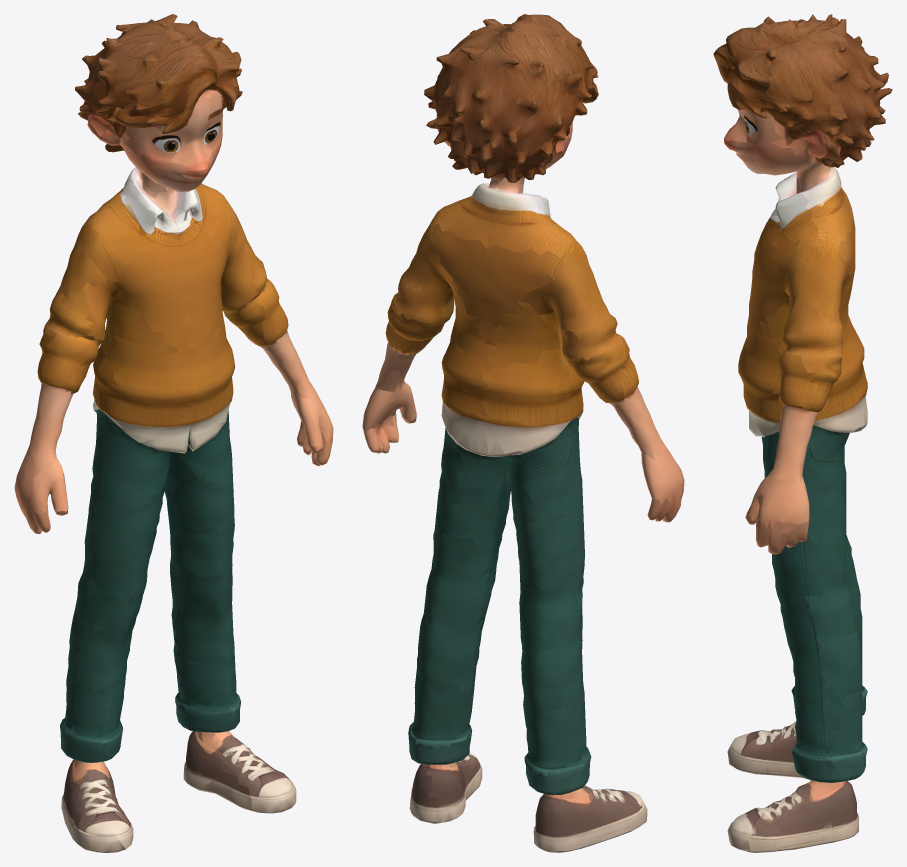
Rendered from young-boy.glb.
3 views of the same model, side by side, from view 1: azimuth 30°, elevation 25°; view 2: azimuth 150°, elevation 25°; view 3: azimuth 270°, elevation 25° (orthographic).
Size of the model in its own units: 0.7789 by 1.9 by 0.3953.
1 material, 1 textured.
